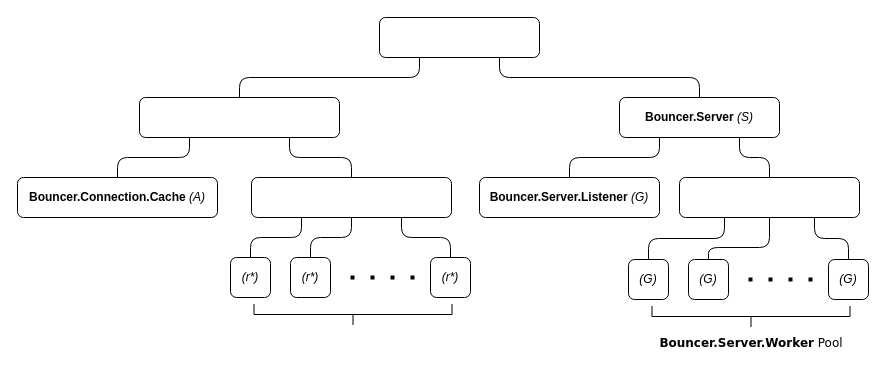
Some shapes in this 889 by 367 pixel diagram are drawn without their labels. Here are the shapes that lost their labels. From the top down, the box of each, then its label:
(378, 16, 540, 58): Bouncer (S)
(138, 96, 340, 138): Bouncer.Connection.Manager (S)
(250, 176, 452, 218): Bouncer.Connection.Listener (r*)
(678, 176, 860, 218): Bouncer.Server.Processor (G)
(253, 303, 452, 325): Bouncer.Connection.Worker Pool
